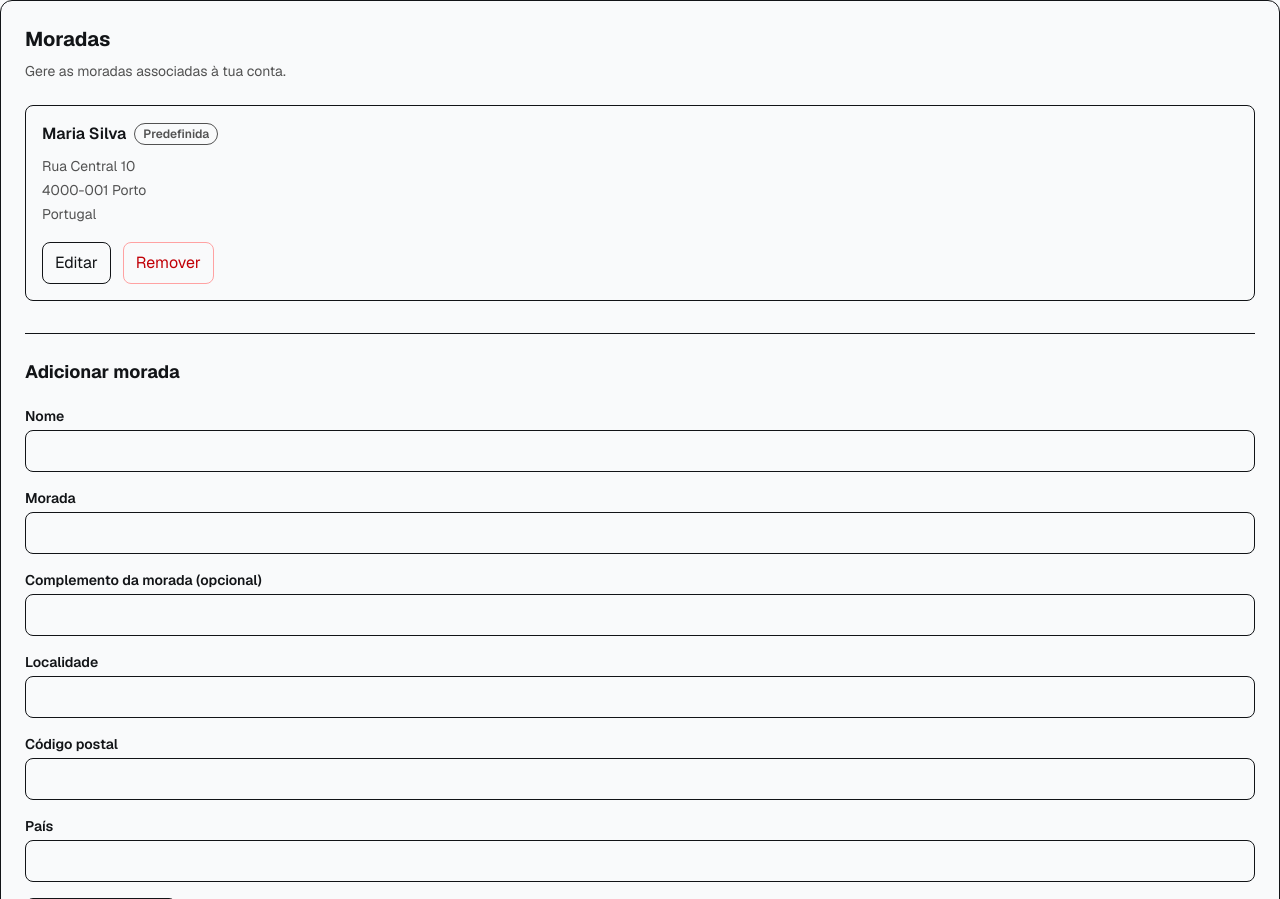
Test: AddressesClient › apaga uma morada depois de confirmação
Expected: the text "Rua Central 10" is shown, top-left (42, 157), bottom-right (135, 175)
Click the button "Remover": (168, 263) top-left (123, 242), bottom-right (214, 284)
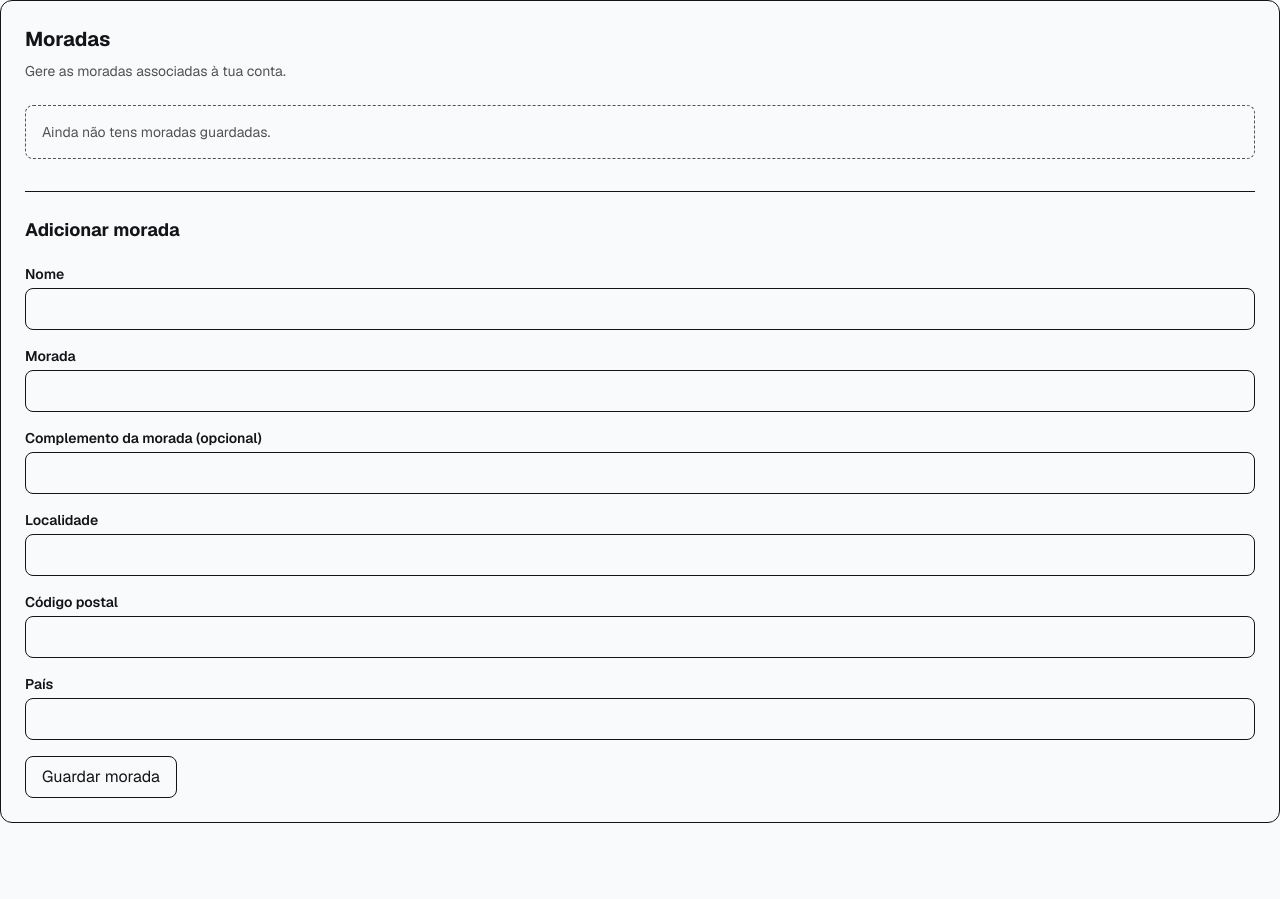
Expected: the text "Ainda não tens moradas guardadas." is shown, top-left (25, 105), bottom-right (1255, 159)
